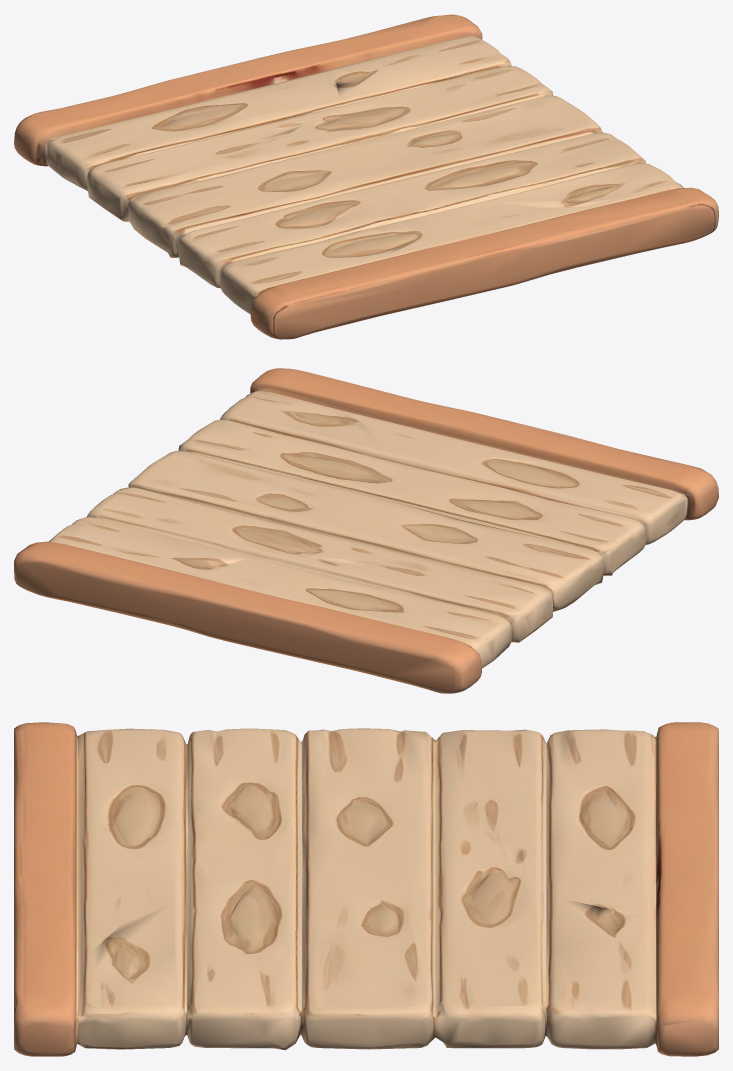
The picture shows the model from 3 angles, top to bottom: view 1: azimuth 30°, elevation 25°; view 2: azimuth 150°, elevation 25°; view 3: azimuth 270°, elevation 25°; orthographic projection. The views are drawn at different scales.
Visible parts, largest first — view 1: node_0; view 2: node_0; view 3: node_0.
Part boxes in pixels (bbox=[...]): node_0: bbox=[14, 14, 718, 339]; node_0: bbox=[14, 368, 718, 693]; node_0: bbox=[14, 722, 718, 1056].
Bounding box in the file's own units: 3 × 0.25 × 3.
Materials: 1 (1 with a texture image).
